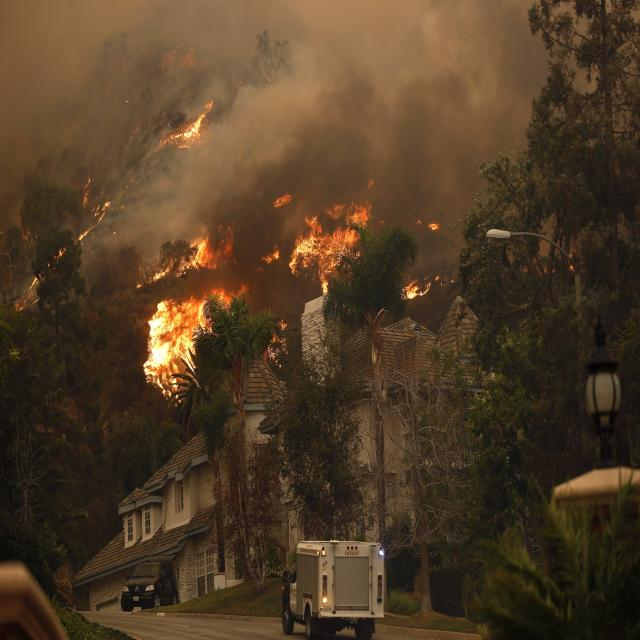Fire: (128, 218, 392, 416)
